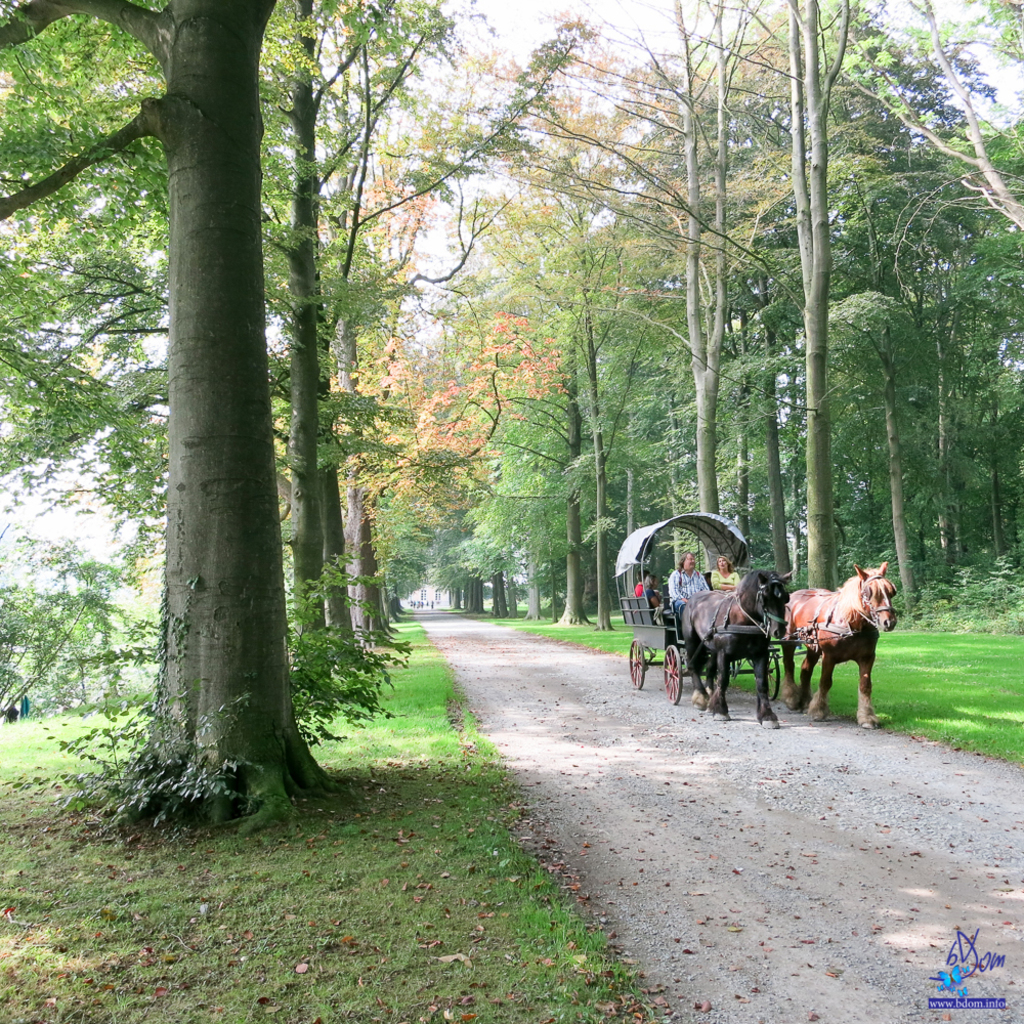horse: (674, 565, 793, 732)
